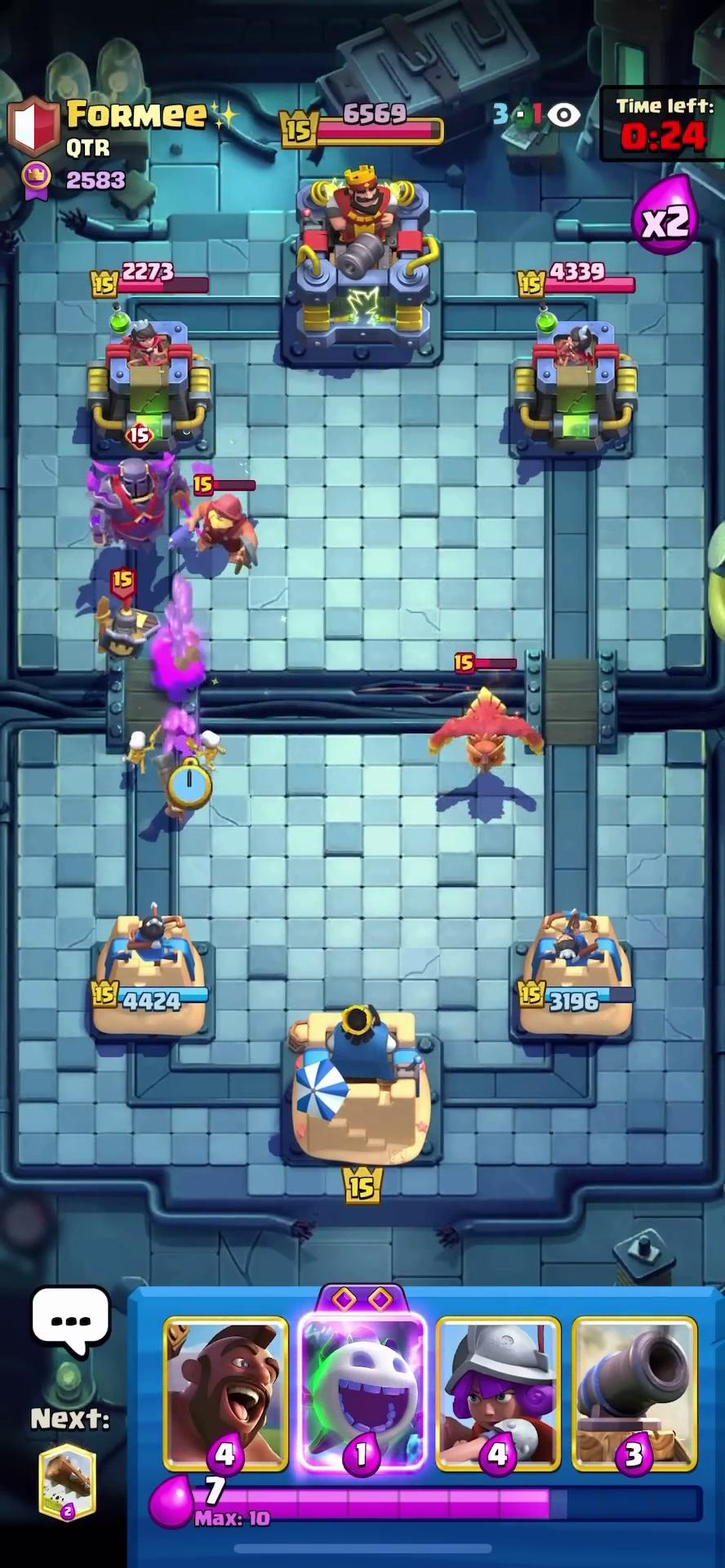musketeer: (151, 764, 214, 827)
skeletons: (110, 727, 243, 768)
